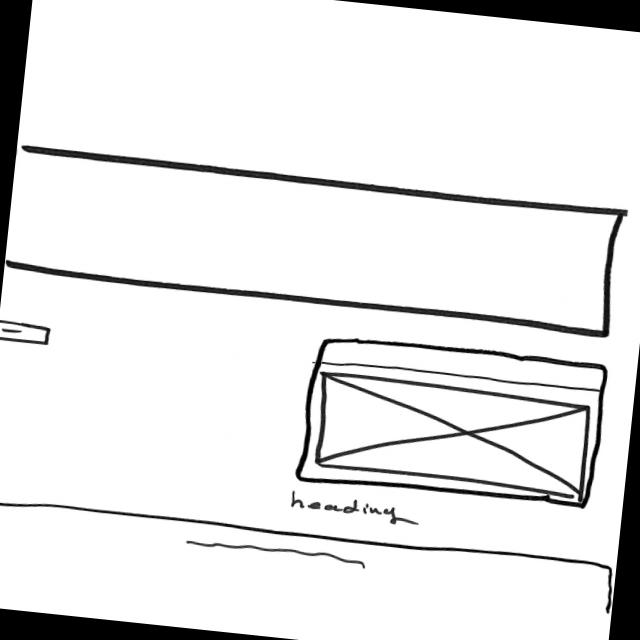container: (3, 140, 624, 338), (297, 332, 607, 512)
icon-button: (0, 318, 52, 347)
image: (311, 369, 593, 498)
label: (286, 488, 418, 526)
text: (182, 534, 368, 569)
